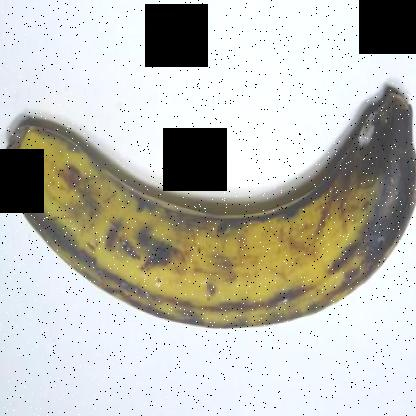overripe: (1, 69, 415, 347)
rotten: (310, 69, 415, 279)
